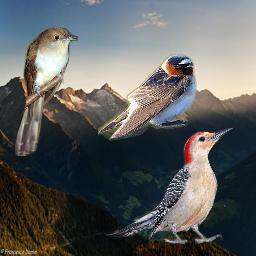Cuckoo: (15, 26, 78, 156)
Swallow: (98, 54, 197, 142)
Woodpecker: (105, 125, 236, 245)
